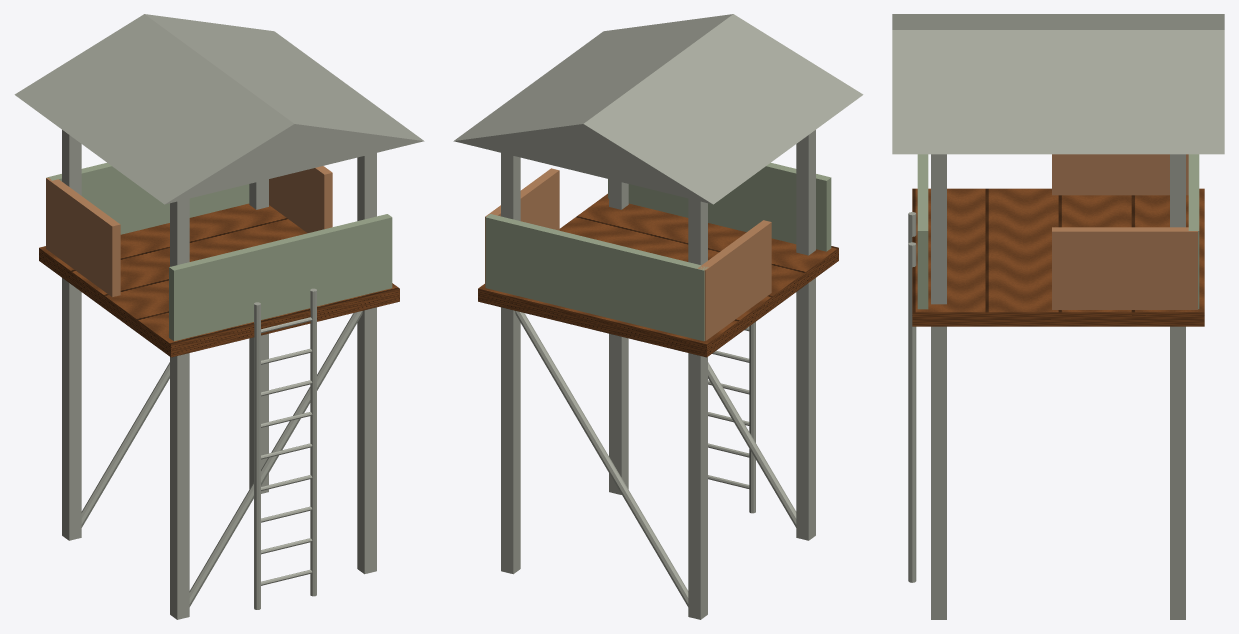
The model's file is reclamation-yard-salvage-lookout-platform__216.glb.
3 views of the same model, side by side, from view 1: azimuth 30°, elevation 25°; view 2: azimuth 150°, elevation 25°; view 3: azimuth 270°, elevation 25° (orthographic). The views are drawn at different scales.
Visible parts, largest first — view 1: metal, shell, wood, accent; view 2: metal, shell, wood, accent; view 3: metal, wood, accent, shell.
Boxes of the visible parts, box(x1,y1,x2,y2) form: metal: box(14, 14, 424, 619); shell: box(46, 163, 392, 341); wood: box(39, 203, 399, 357); accent: box(46, 166, 332, 297); metal: box(453, 14, 863, 619); shell: box(485, 163, 831, 341); wood: box(478, 193, 838, 357); accent: box(485, 168, 771, 340); metal: box(892, 14, 1224, 619); wood: box(912, 188, 1204, 326); accent: box(1052, 154, 1197, 309); shell: box(917, 154, 1199, 309).
Size of the model in its own units: 2.5 by 4.47 by 2.5.
4 materials, 1 textured.
